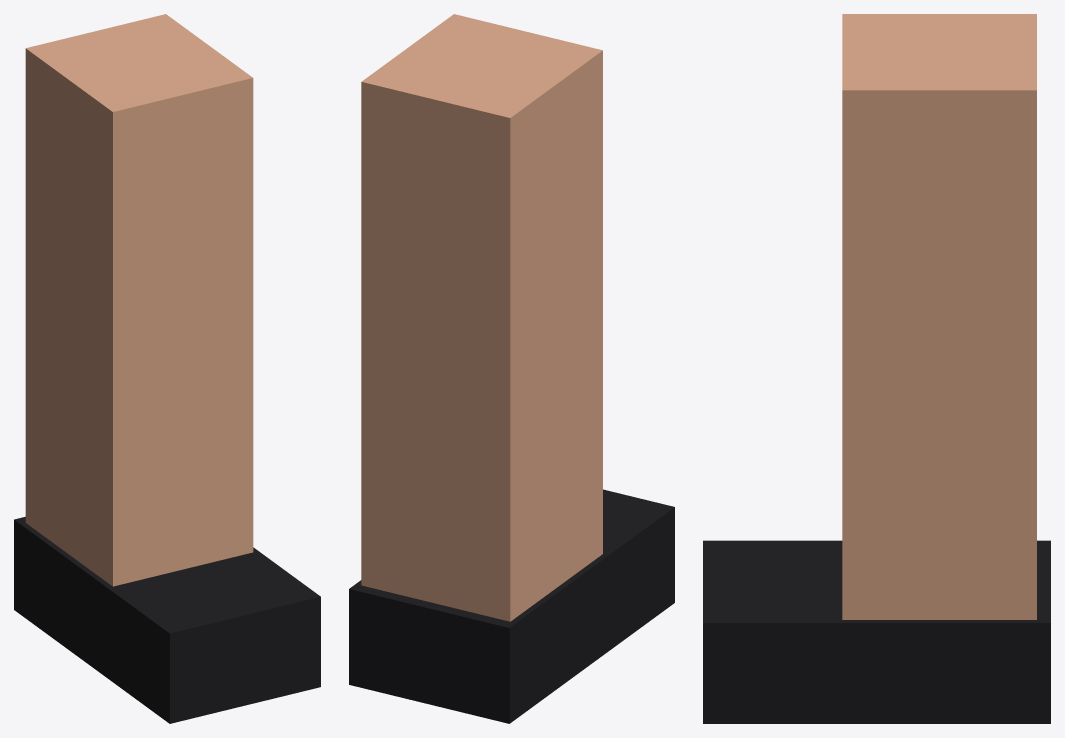
File: arb_pantorrilla.obj
The picture shows the model from 3 angles, left to right: view 1: azimuth 30°, elevation 25°; view 2: azimuth 150°, elevation 25°; view 3: azimuth 270°, elevation 25°; orthographic projection. The views are drawn at different scales.
Size of the model in its own units: 0.14 by 0.5 by 0.25.
Materials: 2 (2 with a texture image).
